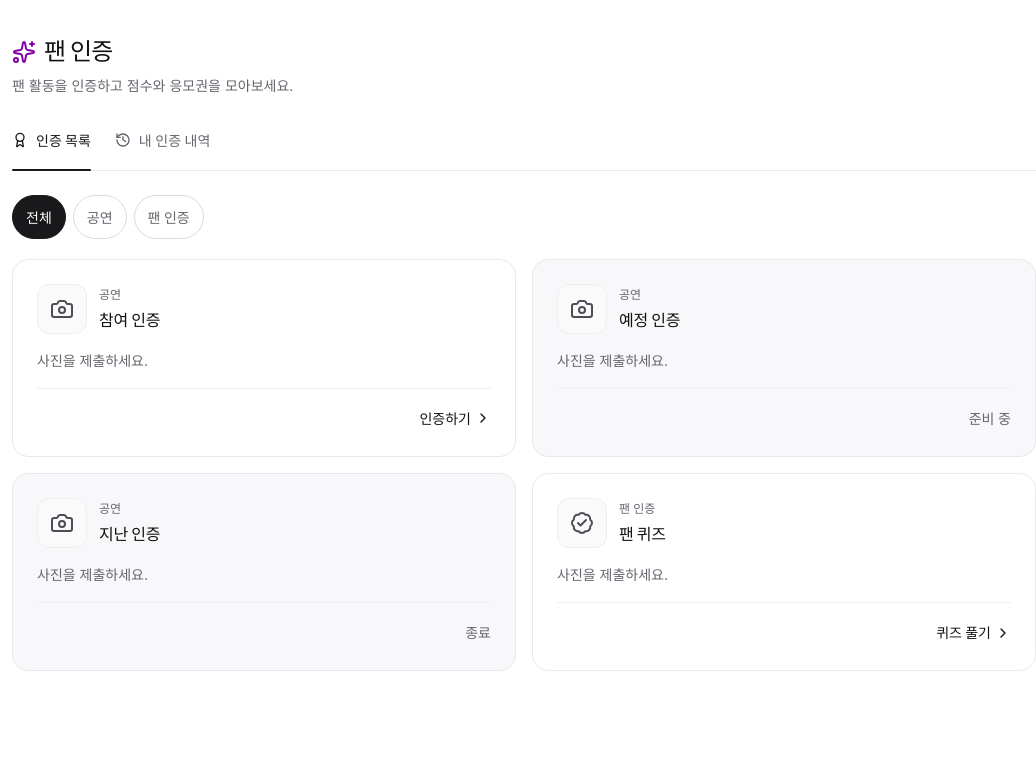
Test case: CertificationPanel › filters certifications without making preparing or closed items actionable
Expected: the text "준비 중" is shown, [969, 408, 1011, 429]
Expected: the text "종료" is shown, [465, 622, 491, 643]
Click the button "팬 인증". click: (169, 217)
box: [134, 195, 204, 239]
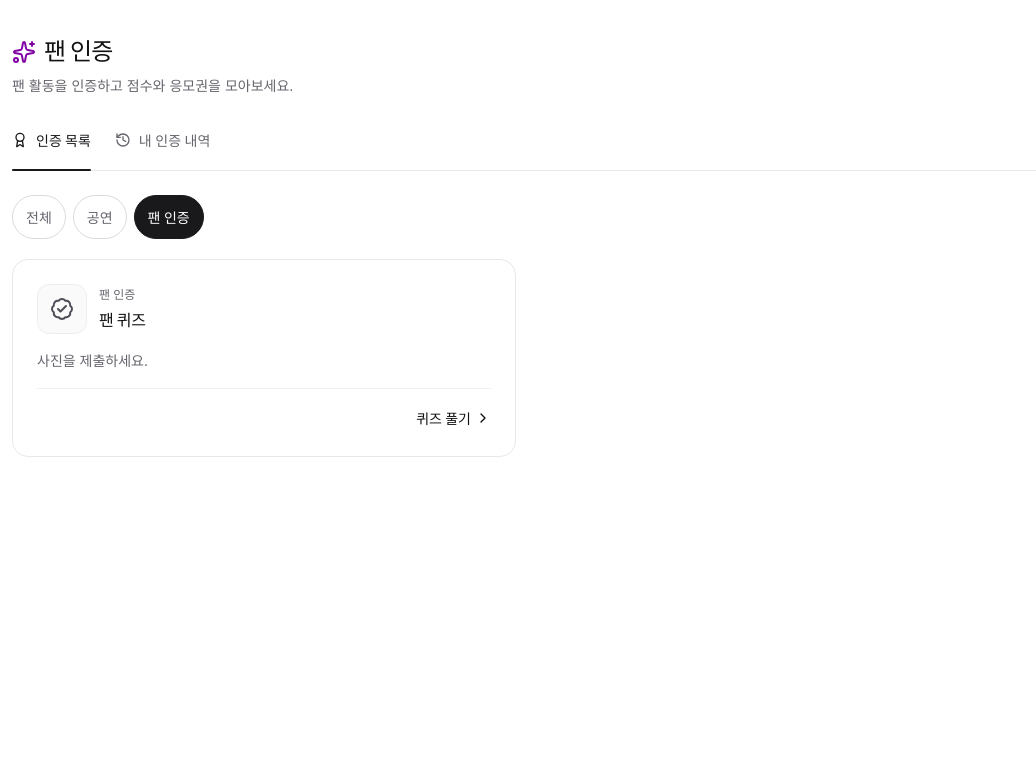
Expected: the link "팬 인증 팬 퀴즈 사진을 제출하세요. 퀴즈 풀기" is shown, [12, 259, 516, 457]
Expected: the link "참여 인증" is gone
Click the button "전체". click: (39, 217)
box: [12, 195, 66, 239]
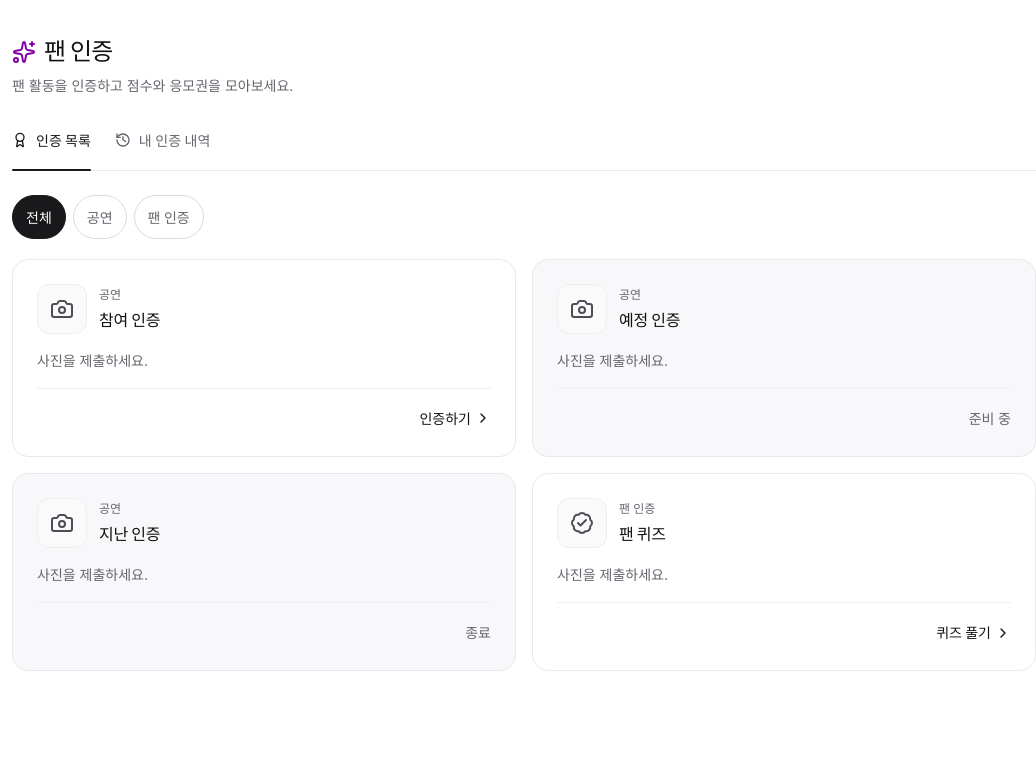
Expected: the number of list items is 4, [12, 259, 516, 457]; [532, 259, 1035, 457]; [12, 473, 516, 671]; [532, 473, 1035, 671]
